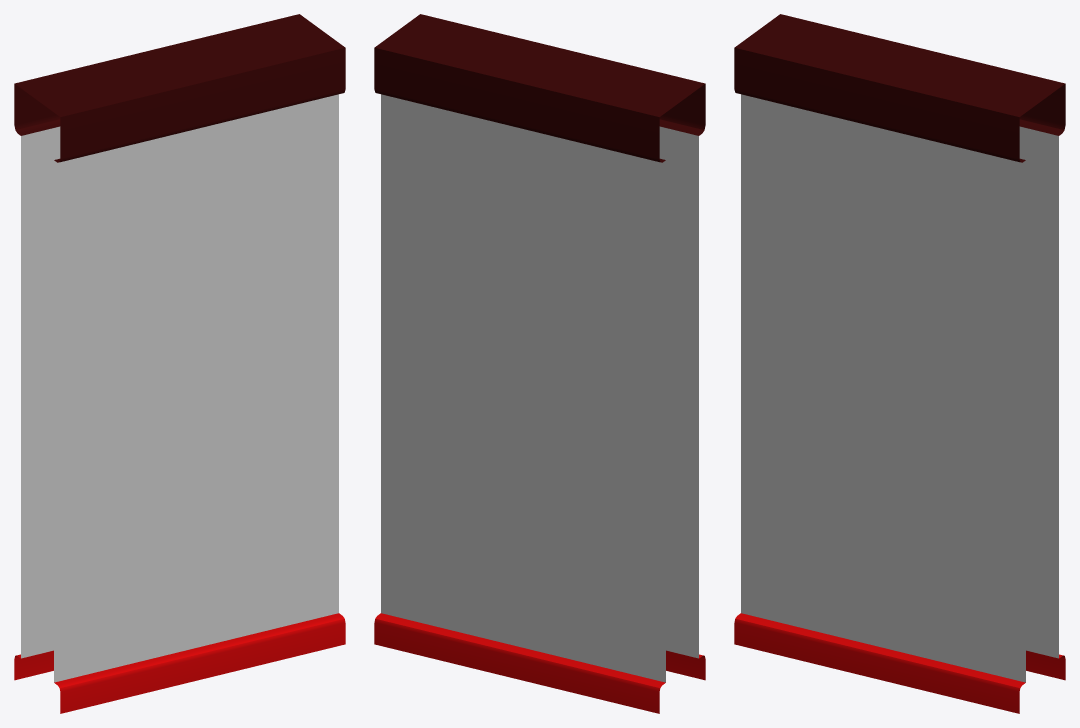
Rendered from SM_MurSimple.fbx.
3 views of the same model, side by side, from view 1: azimuth 30°, elevation 25°; view 2: azimuth 150°, elevation 25°; view 3: azimuth 330°, elevation 25° (orthographic).
Visible parts, largest first — view 1: Mur1; view 2: Mur1; view 3: Mur1.
Part boxes in pixels (x1,y1,x2,y2): Mur1: [14, 14, 345, 713]; Mur1: [374, 14, 705, 713]; Mur1: [734, 14, 1065, 713].
Bounding box in the file's own units: 100 × 200 × 27.92.
